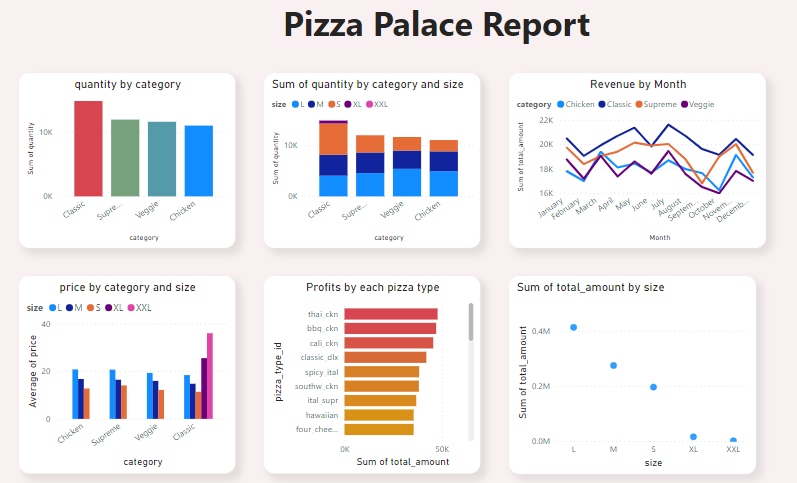

This screenshot's page, from the dashboard's own definition file:
{"tool":"powerbi","page":{"name":"Page 1","canvas":[1280,720],"ordinal":0},"visuals":[{"type":"columnChart","title":"quantity by category","fields":{"Category":["Order_Details.category"],"Y":["Sum(Order_Details.quantity)"]},"box":[42.4,109.8,308.8,250.2],"z":0},{"type":"columnChart","fields":{"Category":["Order_Details.category"],"Y":["Sum(Order_Details.quantity)"],"Series":["Order_Details.size"]},"box":[392.6,109.8,308.8,250.2],"z":1000},{"type":"lineChart","title":"Revenue by Month","fields":{"Y":["Sum(Order_Details.total_amount)"],"Category":["Order_Details.date.Variation.Date Hierarchy.Month"],"Series":["Order_Details.category"]},"box":[742.9,109.8,367.1,250],"z":2000},{"type":"clusteredColumnChart","title":"price by category and size","fields":{"Category":["Order_Details.category"],"Y":["Avg(Order_Details.price)"],"Series":["Order_Details.size"]},"box":[42.4,399.5,308.8,282.4],"z":3000},{"type":"barChart","title":"Profits by each pizza type","fields":{"Y":["Sum(Order_Details.total_amount)"],"Category":["Order_Details.pizza_type_id"]},"box":[393,400,309,282],"z":3001},{"type":"scatterChart","fields":{"X":["Order_Details.size"],"Y":["Sum(Order_Details.total_amount)"]},"box":[742.9,400,352.9,282.9],"z":3002},{"type":"textbox","box":[390.7,0,498.6,75.7],"z":3003}]}

Visuals, with their boxes on the page's 1280x720 design canvas (x1, y1, x2, y2). These are canvas units, not pixel positions in the 797x483 screenshot, which may show the page scaled, cropped or inside an application window:
"quantity by category" columnChart: [x1=42, y1=110, x2=351, y2=360]
columnChart - Order_Details.category x Sum(Order_Details.quantity): [x1=393, y1=110, x2=701, y2=360]
"Revenue by Month" lineChart: [x1=743, y1=110, x2=1110, y2=360]
"price by category and size" clusteredColumnChart: [x1=42, y1=400, x2=351, y2=682]
"Profits by each pizza type" barChart: [x1=393, y1=400, x2=702, y2=682]
scatterChart - Order_Details.size x Sum(Order_Details.total_amount): [x1=743, y1=400, x2=1096, y2=683]
textbox: [x1=391, y1=0, x2=889, y2=76]
